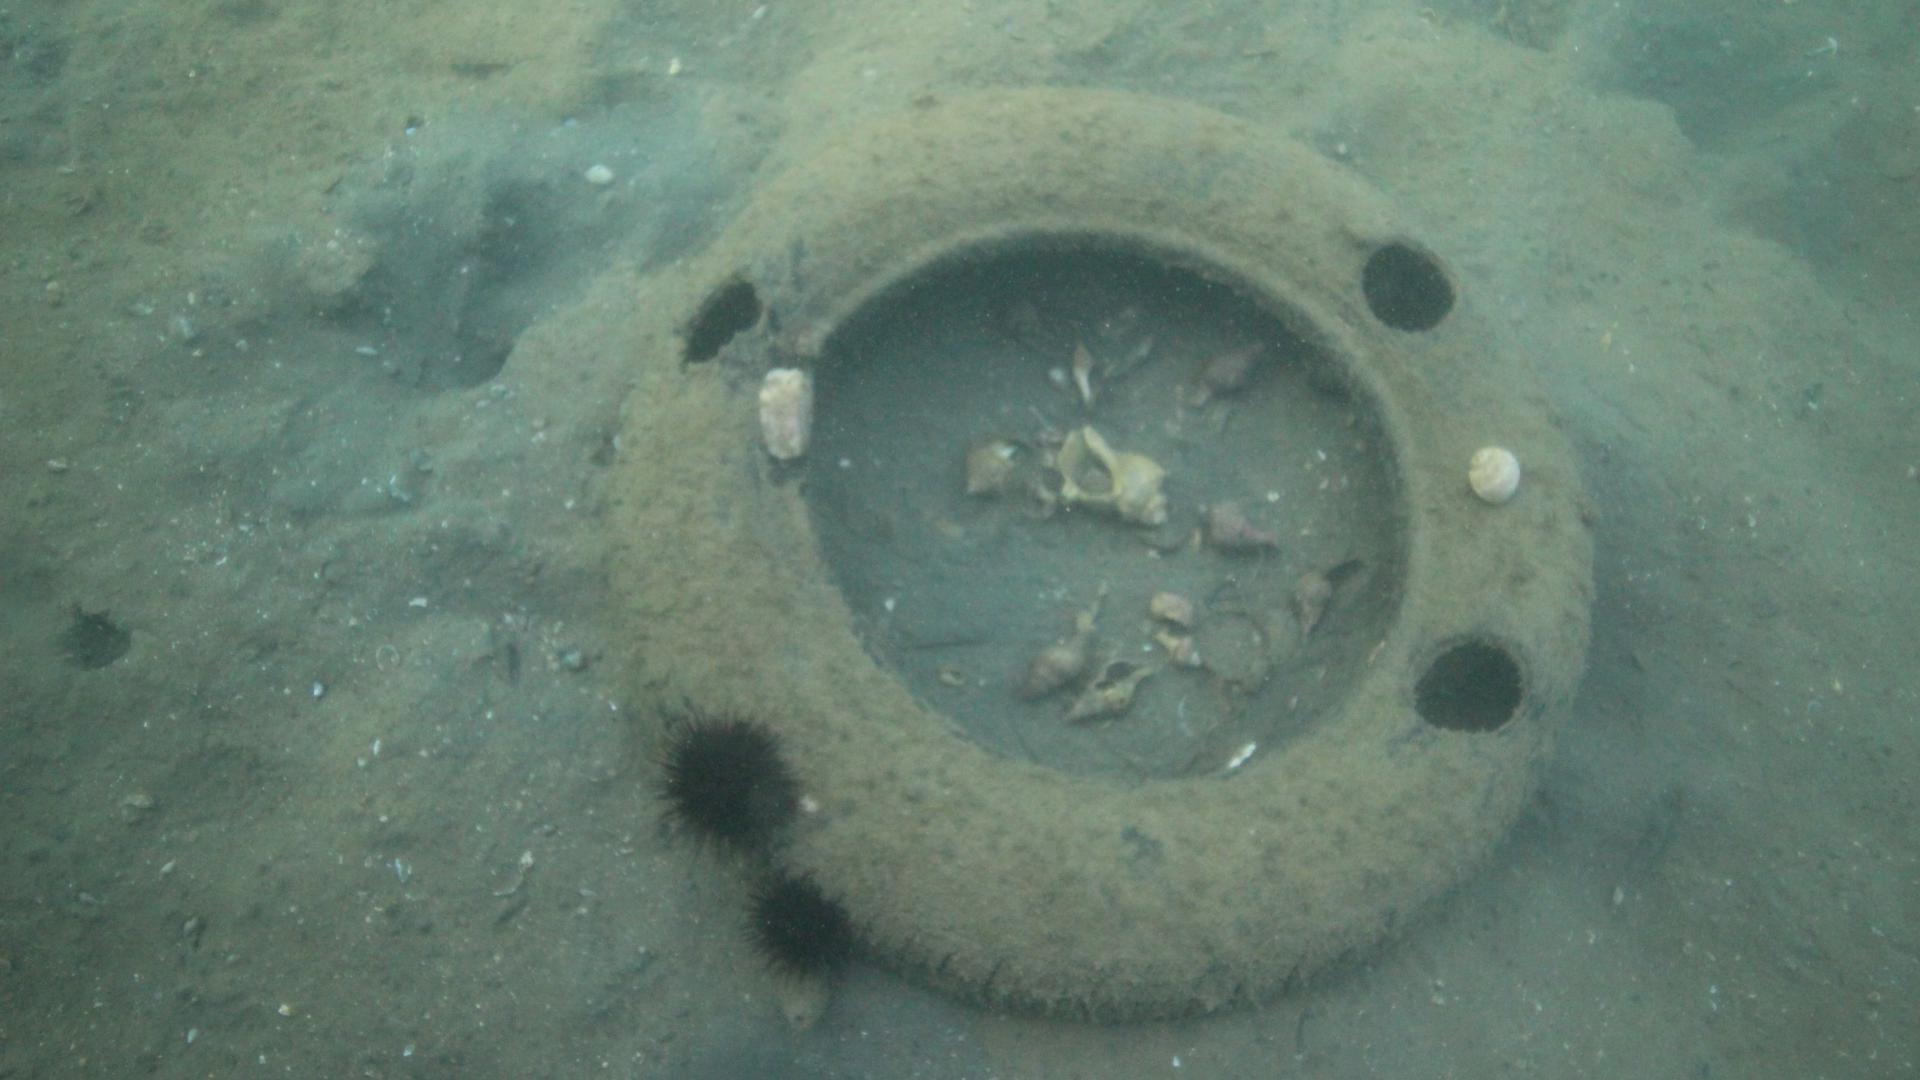tire: (597, 82, 1596, 1025)
